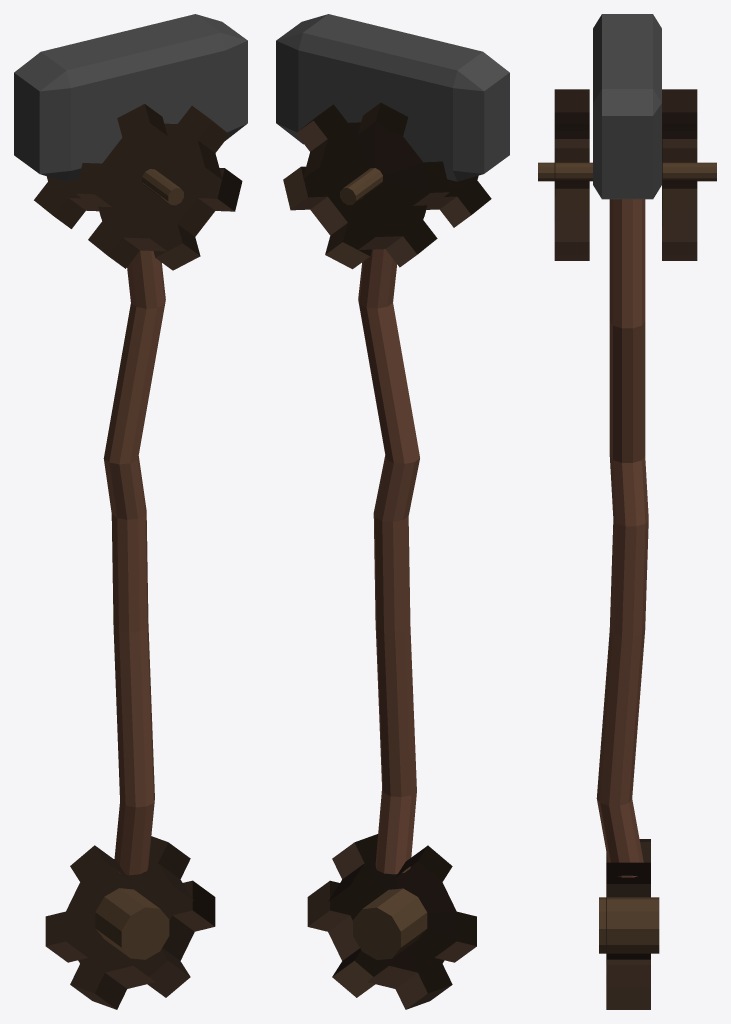
Rendered from gros marteau usine .fbx.
3 renders of one model, left to right at view 1: azimuth 30°, elevation 25°; view 2: azimuth 150°, elevation 25°; view 3: azimuth 270°, elevation 25°, orthographic.
Visible parts, largest first — view 1: enclume marteau rouage, manche marteau rouage, rouage soutien 2, rouage manche, manche marteau.003, rouage soutien 1, cylindre des rouages soutien; view 2: enclume marteau rouage, manche marteau rouage, rouage soutien 1, rouage manche, manche marteau.003, rouage soutien 2, cylindre des rouages soutien; view 3: manche marteau rouage, enclume marteau rouage, rouage soutien 2, rouage soutien 1, rouage manche, manche marteau.003, cylindre des rouages soutien.
Part boxes in pixels (x1=…): enclume marteau rouage: x1=14, y1=14, x2=247, y2=181; manche marteau rouage: x1=103, y1=250, x2=165, y2=875; rouage soutien 2: x1=75, y1=104, x2=242, y2=270; rouage manche: x1=45, y1=836, x2=215, y2=1009; manche marteau.003: x1=95, y1=888, x2=169, y2=959; rouage soutien 1: x1=34, y1=176, x2=101, y2=228; cylindre des rouages soutien: x1=142, y1=169, x2=183, y2=205; enclume marteau rouage: x1=276, y1=14, x2=509, y2=181; manche marteau rouage: x1=358, y1=249, x2=419, y2=874; rouage soutien 1: x1=283, y1=102, x2=449, y2=269; rouage manche: x1=307, y1=834, x2=476, y2=1009; manche marteau.003: x1=353, y1=888, x2=427, y2=960; rouage soutien 2: x1=424, y1=175, x2=491, y2=227; cylindre des rouages soutien: x1=340, y1=168, x2=382, y2=205; manche marteau rouage: x1=596, y1=199, x2=648, y2=877; enclume marteau rouage: x1=593, y1=14, x2=661, y2=199; rouage soutien 2: x1=554, y1=89, x2=589, y2=260; rouage soutien 1: x1=662, y1=89, x2=697, y2=260; rouage manche: x1=606, y1=839, x2=650, y2=1009; manche marteau.003: x1=599, y1=897, x2=659, y2=953; cylindre des rouages soutien: x1=538, y1=162, x2=716, y2=181.
Bounding box in the file's own units: 200 × 875 × 150.
